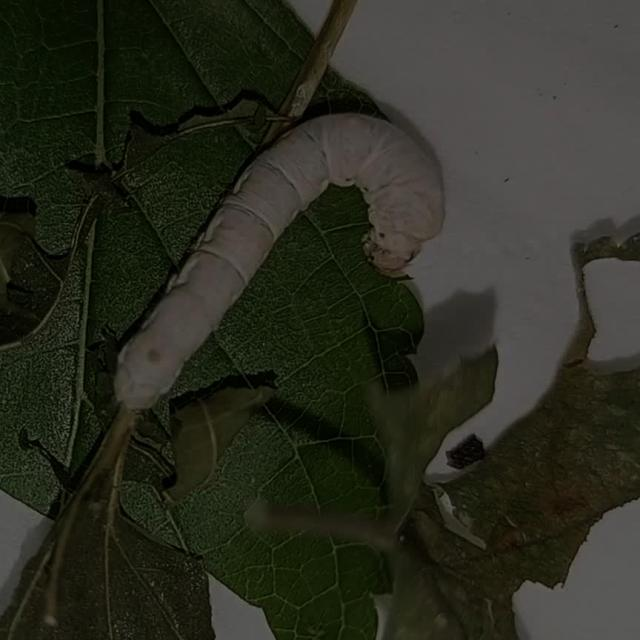Healthy: (94, 88, 474, 418)
